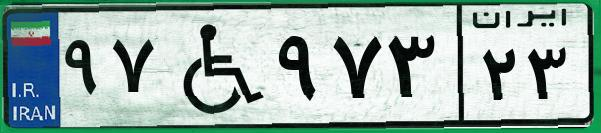2: (475, 38, 525, 113)
3: (385, 28, 445, 110), (525, 38, 570, 115)
7: (330, 28, 385, 110), (110, 28, 158, 98)
9: (270, 28, 330, 110), (57, 26, 110, 100)
ژ (معلولین و جانبازان): (158, 12, 270, 120)
